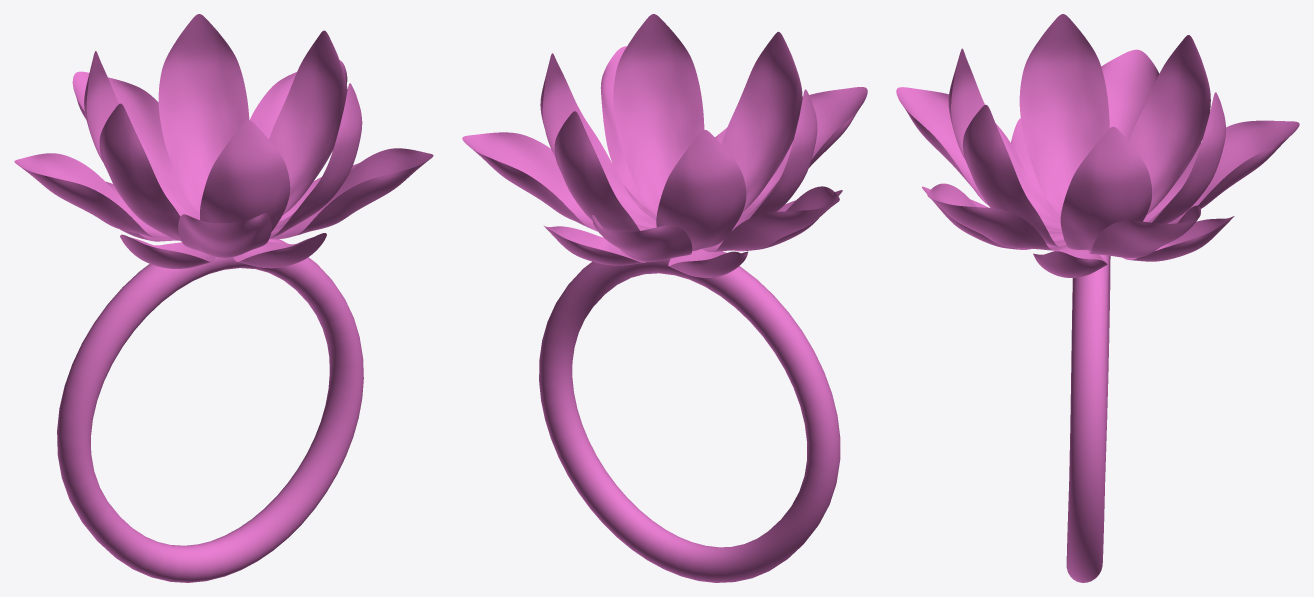
Rendered from lotos.glb.
3 renders of one model, left to right at view 1: azimuth 30°, elevation 25°; view 2: azimuth 150°, elevation 25°; view 3: azimuth 270°, elevation 25°, orthographic.
Parts seen in each view (by area): view 1: BézierCurve.006; view 2: BézierCurve.006; view 3: BézierCurve.006.
Part boxes in pixels (bbox=[...]): BézierCurve.006: bbox=[14, 14, 433, 582]; BézierCurve.006: bbox=[462, 14, 867, 582]; BézierCurve.006: bbox=[896, 14, 1299, 582].
Bounding box in the file's own units: 32.19 × 44.64 × 32.08.
